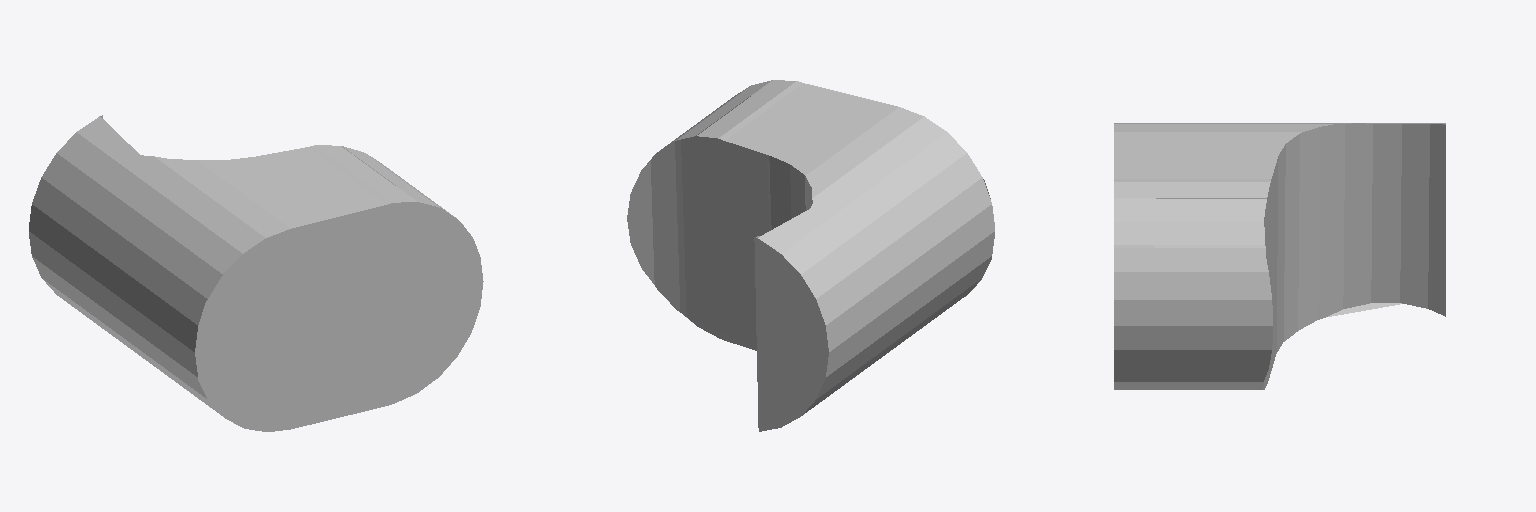
Rendered from trigger.obj.
3 renders of one model, left to right at view 1: azimuth 30°, elevation 25°; view 2: azimuth 150°, elevation 25°; view 3: azimuth 270°, elevation 25°, orthographic.
Parts seen in each view (by area): view 1: Trigger_Mesh2_dewalt_12v_Model; view 2: Trigger_Mesh2_dewalt_12v_Model; view 3: Trigger_Mesh2_dewalt_12v_Model.
Part boxes in pixels (left/top/right/bottom): Trigger_Mesh2_dewalt_12v_Model: left=29, top=115, right=483, bottom=431; Trigger_Mesh2_dewalt_12v_Model: left=627, top=80, right=994, bottom=431; Trigger_Mesh2_dewalt_12v_Model: left=1114, top=123, right=1445, bottom=389.
Bounding box in the file's own units: 0.0191 × 0.0127 × 0.019.